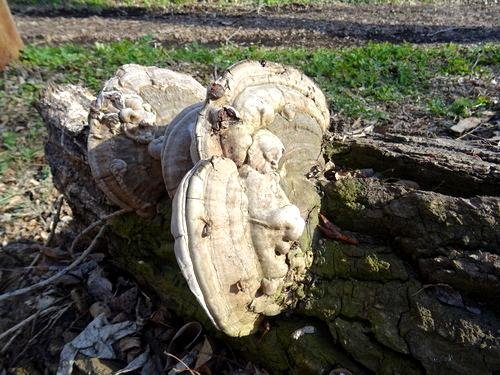Ganoderma - Fruit Body: (88, 59, 336, 342)
